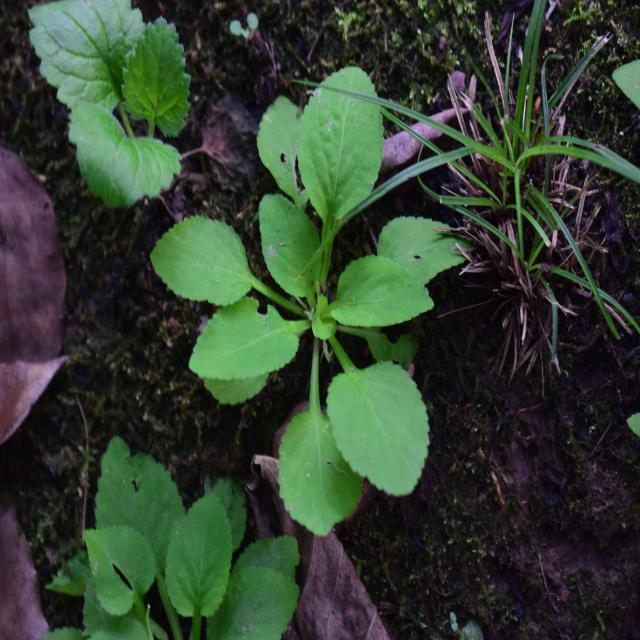Viola: (173, 70, 472, 544)
